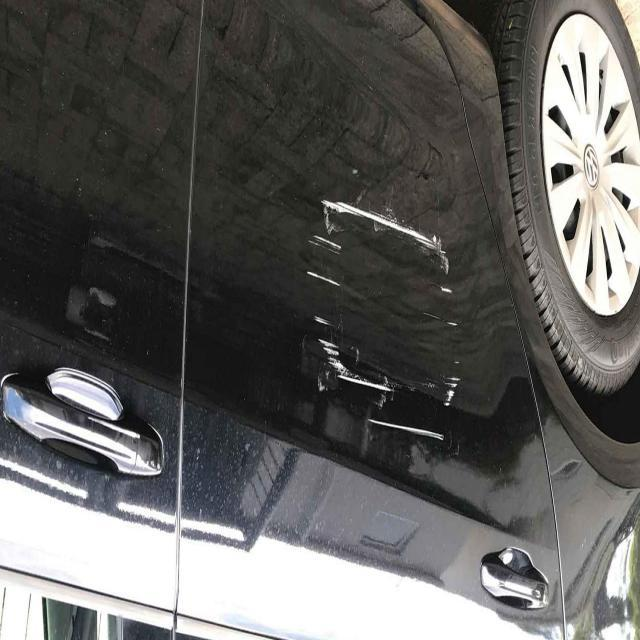scratch: (297, 176, 455, 301), (310, 313, 400, 399), (358, 400, 456, 456), (433, 310, 473, 419)
